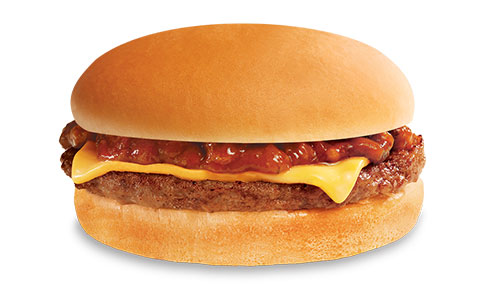hamburger: (51, 16, 441, 272)
